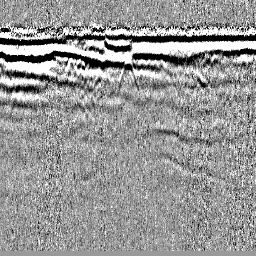cavity: (118, 58, 139, 90)
